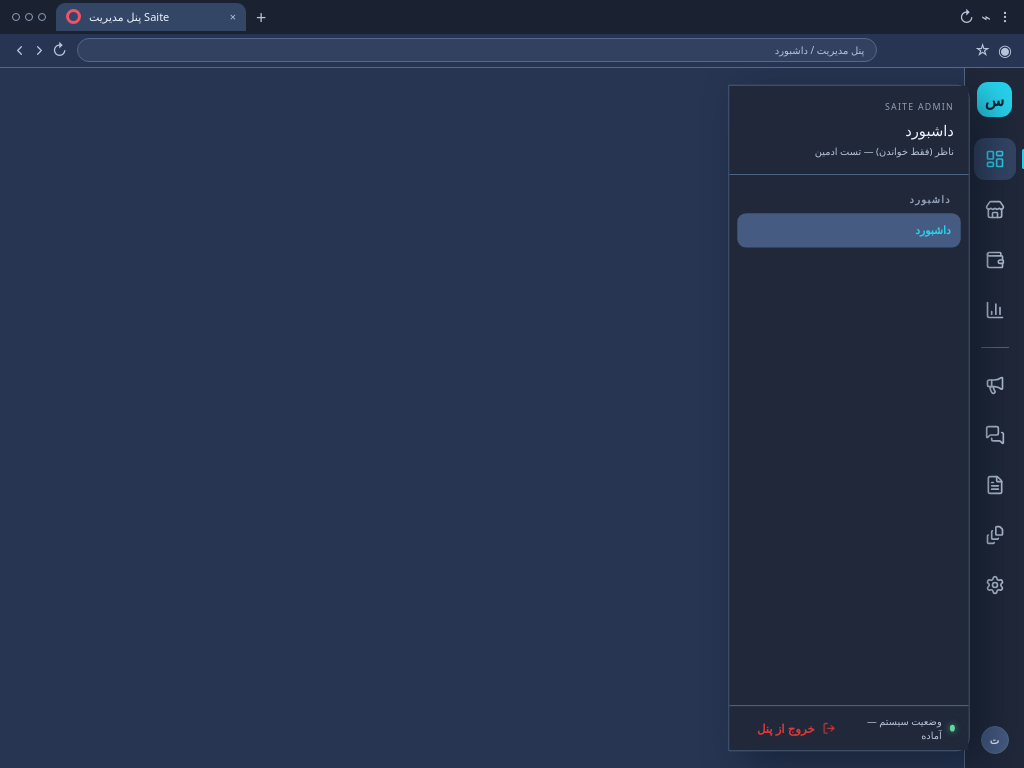
Test: AdminOperaShell › منو براساس نقش فیلتر می‌شود - viewer گروه settings را نمی‌بیند
Expected: the button named "داشبورد" is shown, x1=974 y1=138 x2=1016 y2=180
Step 1. Click the button named "مالی" → (994, 260), box x1=974 y1=239 x2=1016 y2=281
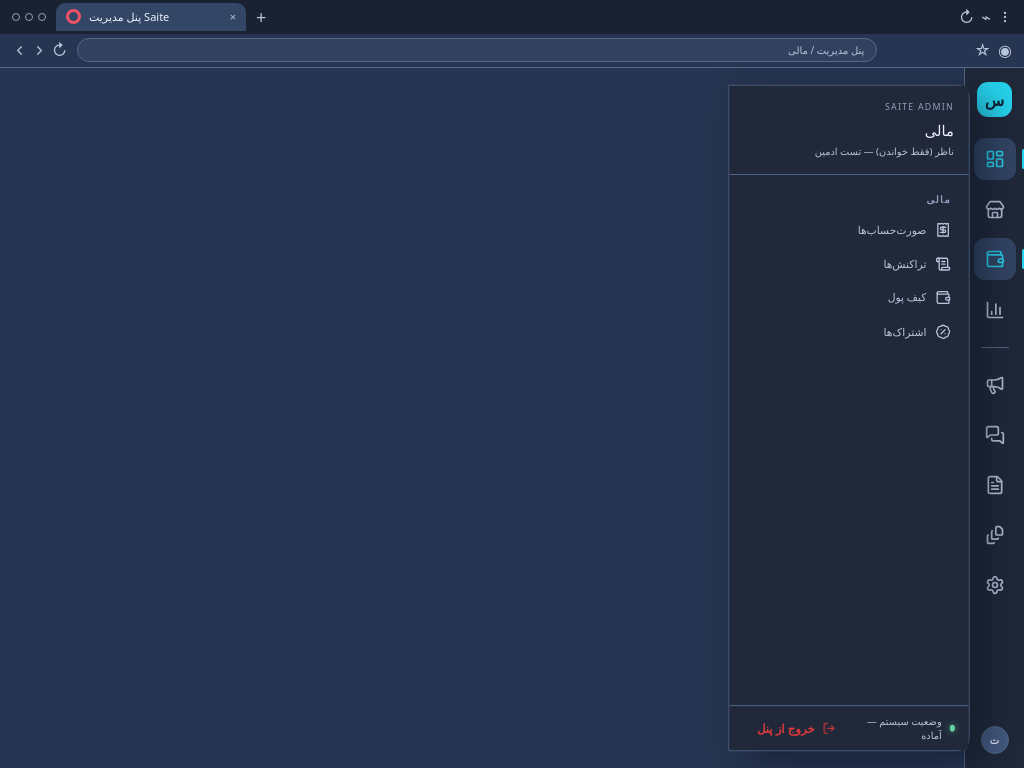
Now the text "صورت‌حساب‌ها" is shown, box x1=858 y1=222 x2=926 y2=238
